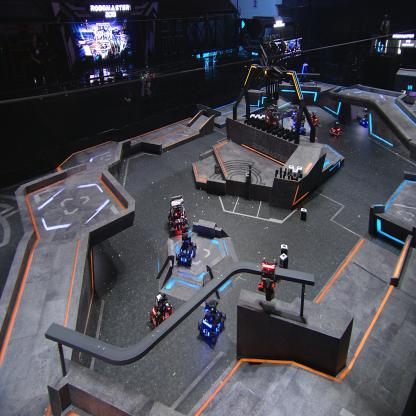car: (197, 298, 227, 345), (149, 293, 174, 330), (167, 194, 189, 233), (175, 234, 197, 268), (290, 111, 306, 138), (264, 103, 279, 129), (359, 106, 374, 129), (328, 121, 341, 138), (309, 111, 319, 127), (290, 105, 300, 120)
